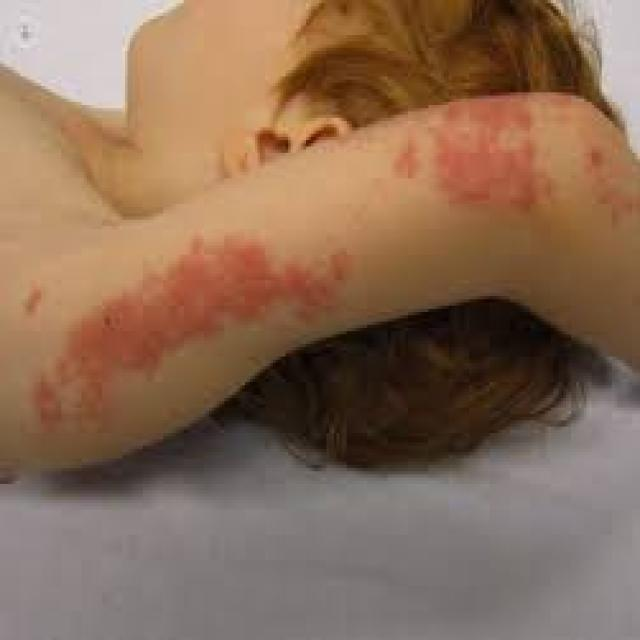Shingles: (28, 232, 353, 441), (393, 99, 636, 229)
